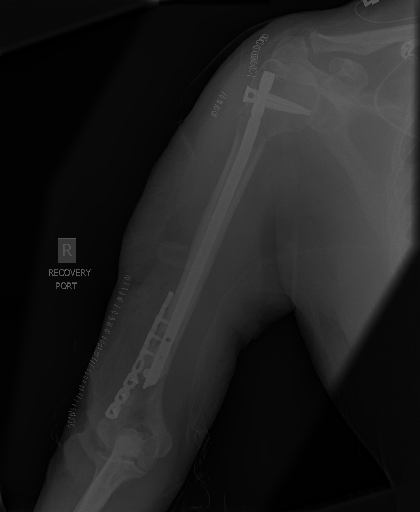implant: (104, 280, 192, 417), (236, 69, 314, 131)
